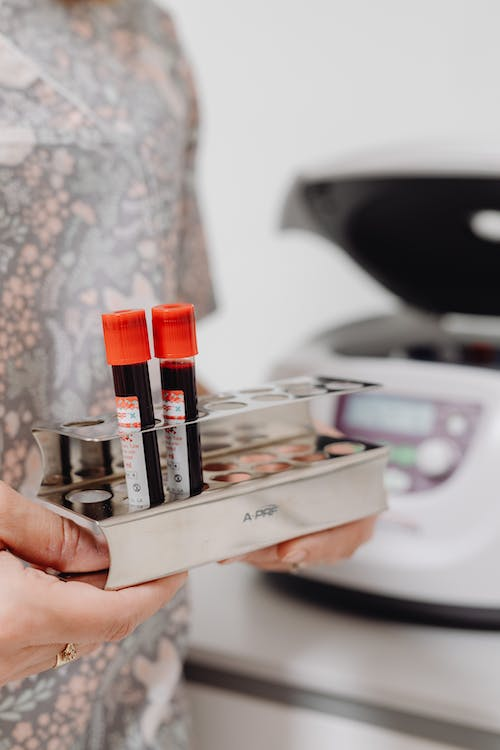blood: (108, 360, 165, 509), (158, 361, 206, 504)
